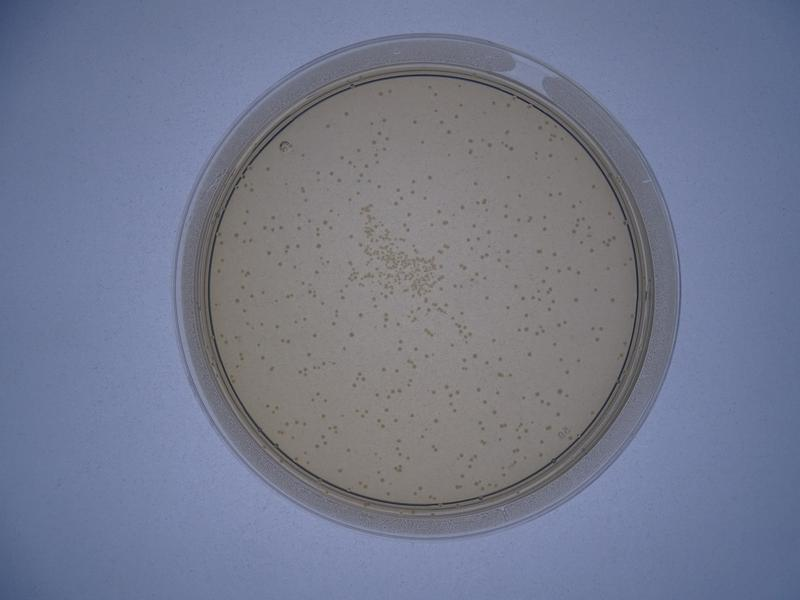colony: (547, 337, 565, 355), (422, 165, 439, 183), (428, 411, 444, 428), (481, 292, 496, 309), (591, 333, 607, 348), (468, 348, 485, 362), (319, 118, 335, 132), (588, 283, 604, 297), (377, 362, 391, 378), (544, 148, 558, 164), (524, 347, 539, 361), (415, 134, 431, 147), (406, 408, 419, 424), (571, 292, 583, 309), (509, 229, 523, 243), (272, 256, 286, 270), (341, 109, 356, 122), (312, 238, 325, 253), (256, 283, 269, 298), (607, 294, 620, 309), (469, 176, 481, 192), (405, 173, 419, 186), (443, 127, 457, 140), (468, 220, 481, 234), (402, 207, 415, 221), (265, 362, 279, 375), (354, 309, 368, 322), (264, 211, 278, 224), (317, 408, 330, 422), (336, 151, 348, 166), (544, 187, 556, 202), (345, 326, 357, 341), (334, 464, 346, 479), (424, 217, 436, 232), (341, 443, 354, 456), (501, 171, 513, 185), (537, 223, 551, 235), (389, 412, 400, 427), (373, 182, 385, 195), (292, 222, 305, 234), (494, 354, 507, 366), (513, 189, 525, 202), (552, 408, 564, 421), (486, 405, 500, 416), (300, 349, 317, 358), (405, 116, 420, 126), (551, 248, 562, 261), (465, 133, 476, 146), (308, 330, 321, 341), (471, 384, 484, 395), (562, 365, 573, 378), (411, 342, 422, 355), (291, 209, 304, 220), (446, 146, 456, 160), (431, 206, 445, 216), (324, 319, 339, 328), (271, 321, 283, 332), (501, 209, 511, 222), (555, 384, 565, 397), (484, 225, 493, 239), (352, 144, 363, 155), (502, 302, 513, 313), (325, 165, 335, 177), (487, 333, 497, 345), (447, 339, 457, 351), (319, 215, 329, 226), (302, 196, 311, 208)
